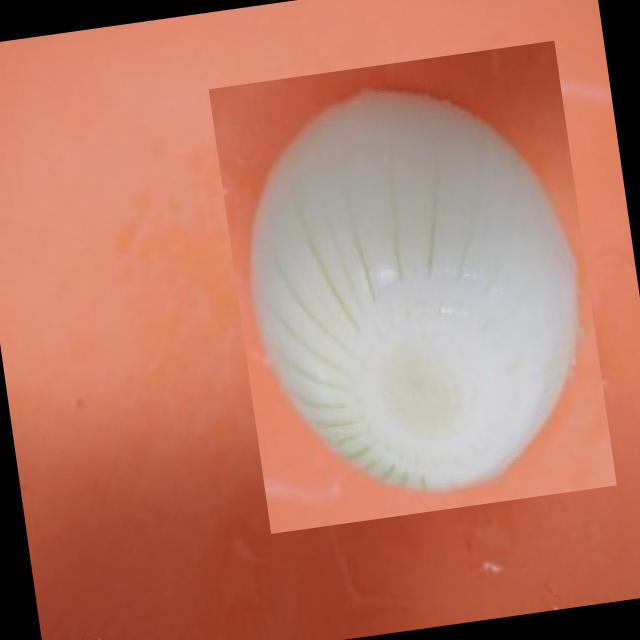Onion: (208, 39, 618, 534)
